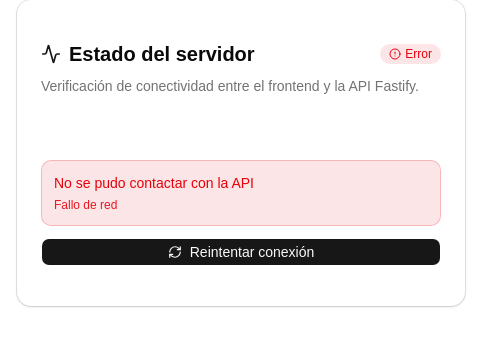
Test: HealthStatus Component › renders error state and retries when API fails
This screenshot has width=483, height=356.
expect the text "No se pudo contactar con la API" is shown: met, box [54, 175, 254, 191]
expect the text "Fallo de red" is shown: met, box [54, 198, 117, 212]
Click retry
Click the button "Reintentar conexión": (241, 252) [41, 238, 441, 266]
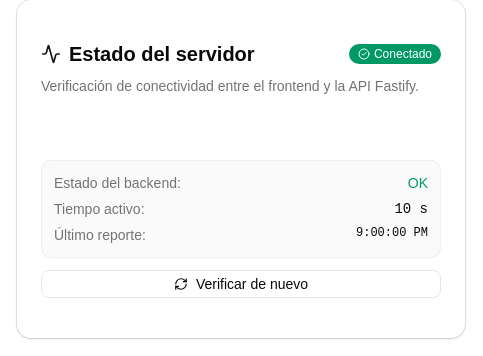
expect the text "Conectado" is shown: met, box [349, 44, 441, 64]
